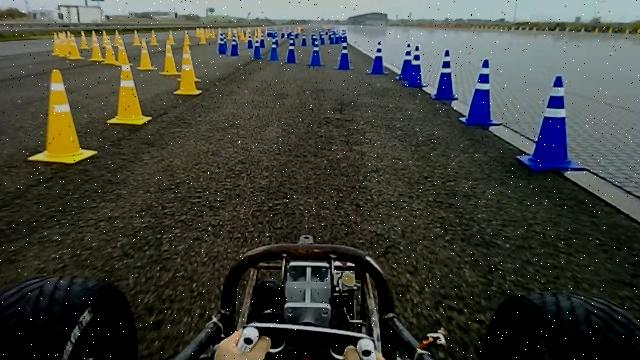blue cone: (516, 75, 586, 172), (459, 58, 503, 127), (431, 49, 458, 100), (403, 44, 425, 88), (367, 41, 389, 75), (395, 42, 413, 80), (334, 42, 354, 70), (307, 39, 325, 67), (284, 38, 298, 63), (268, 38, 280, 61), (230, 34, 241, 56), (252, 38, 262, 58)
yellow cone: (27, 68, 98, 165), (106, 63, 153, 126), (173, 45, 202, 96), (175, 39, 203, 83), (155, 33, 183, 75)
